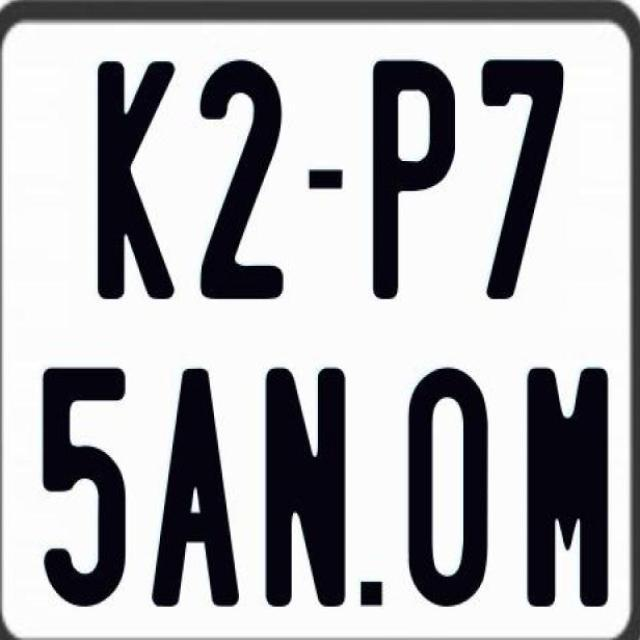license-plate: (12, 4, 640, 631)
